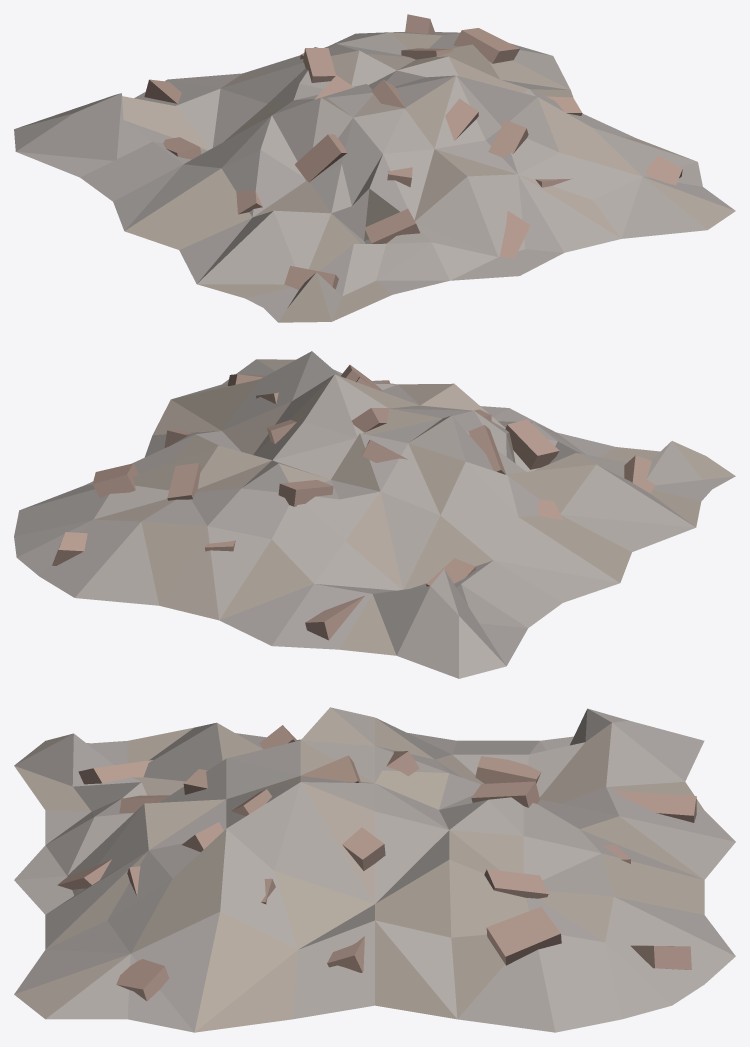
File: junkPileBase.fbx
The picture shows the model from 3 angles, top to bottom: view 1: azimuth 30°, elevation 25°; view 2: azimuth 150°, elevation 25°; view 3: azimuth 270°, elevation 25°; orthographic projection. The views are drawn at different scales.
Parts seen in each view (by area): view 1: junkPileBase; view 2: junkPileBase; view 3: junkPileBase.
Boxes of the visible parts, <box> form: junkPileBase: <box>14,14,735,322</box>; junkPileBase: <box>14,351,735,678</box>; junkPileBase: <box>14,707,735,1032</box>.
Size of the model in its own units: 12.15 by 2.83 by 12.15.
